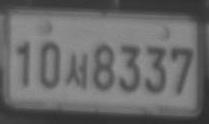0: (39, 42, 61, 89)
1: (14, 41, 36, 86)
3: (119, 44, 141, 92), (145, 46, 166, 94)
7: (171, 46, 193, 96)
8: (93, 44, 115, 89)
서: (65, 53, 88, 89)
